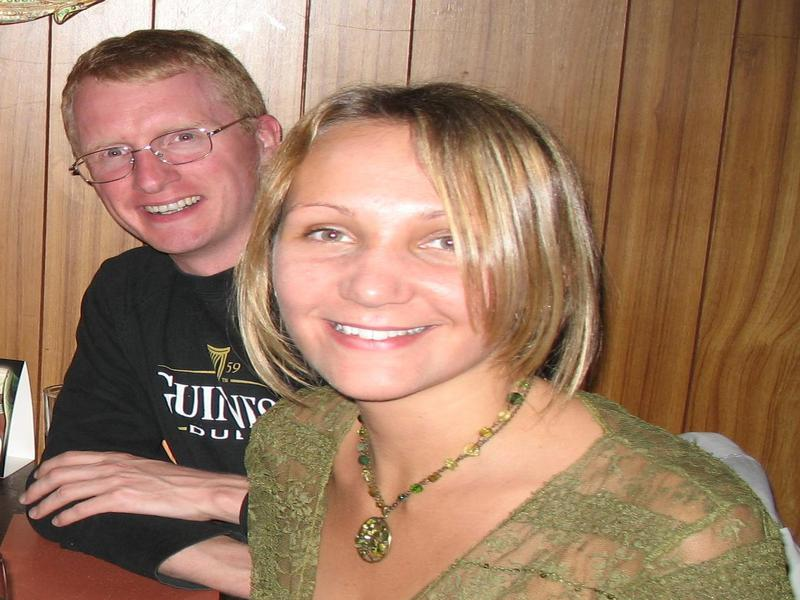person: (244, 65, 794, 600), (16, 24, 364, 595)
